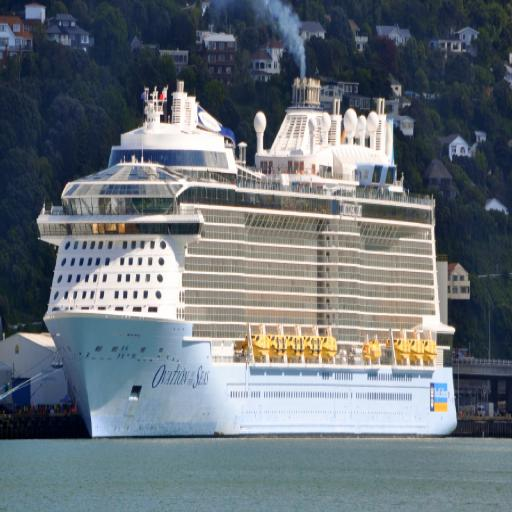cruises: (34, 48, 466, 446)
